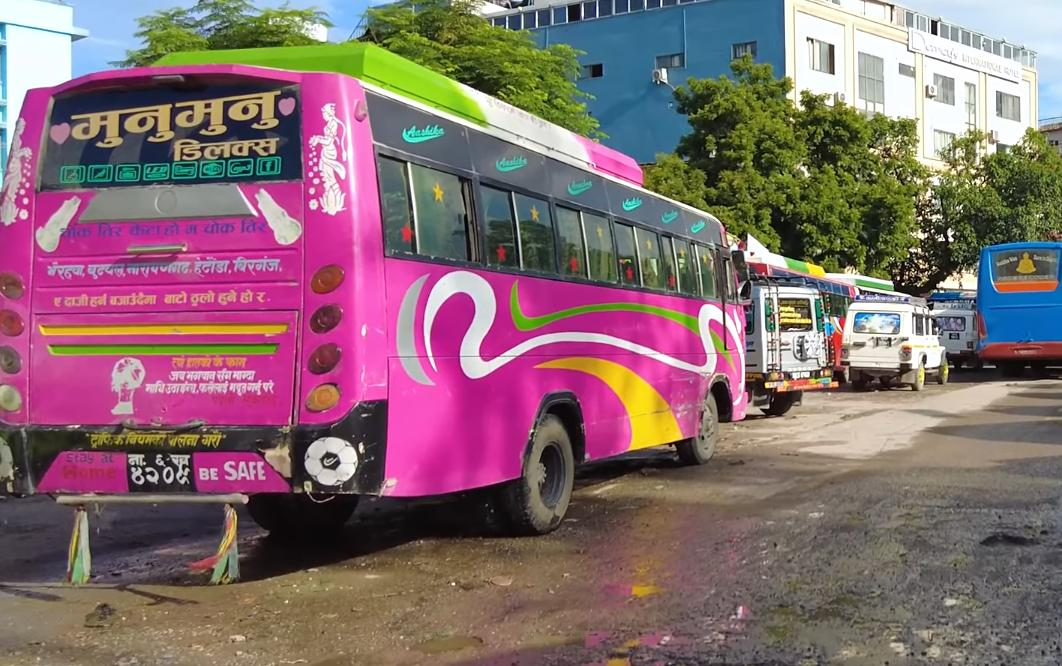SUV: (736, 270, 837, 428), (838, 298, 952, 394)
bus: (10, 37, 755, 523), (969, 236, 1062, 376)
